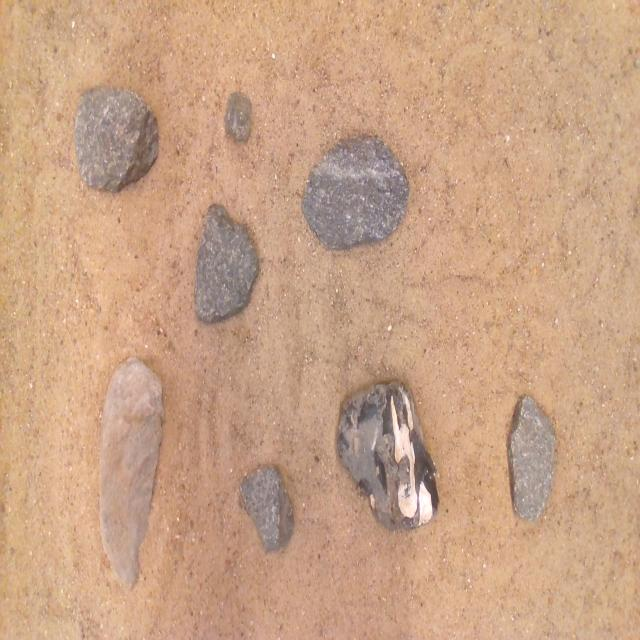rock: (337, 382, 438, 529), (100, 358, 164, 585), (302, 136, 409, 248), (75, 88, 158, 191), (195, 204, 258, 322), (508, 396, 555, 520), (240, 467, 293, 551), (224, 92, 251, 140)
